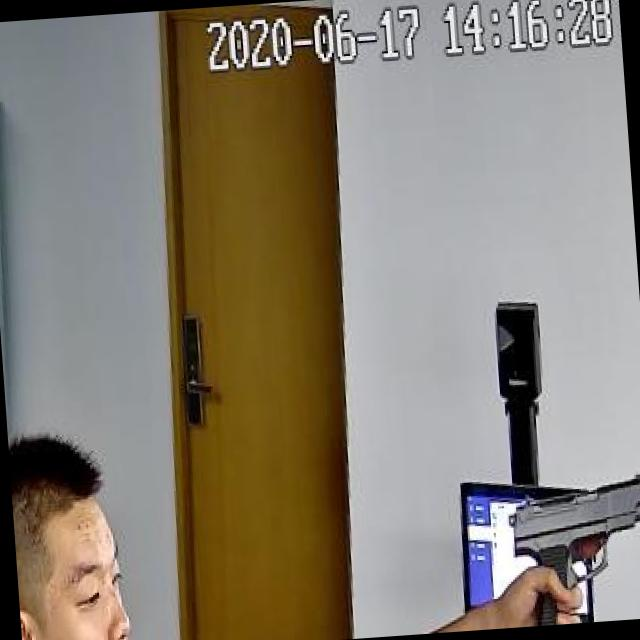Guns: (481, 441, 640, 628)
